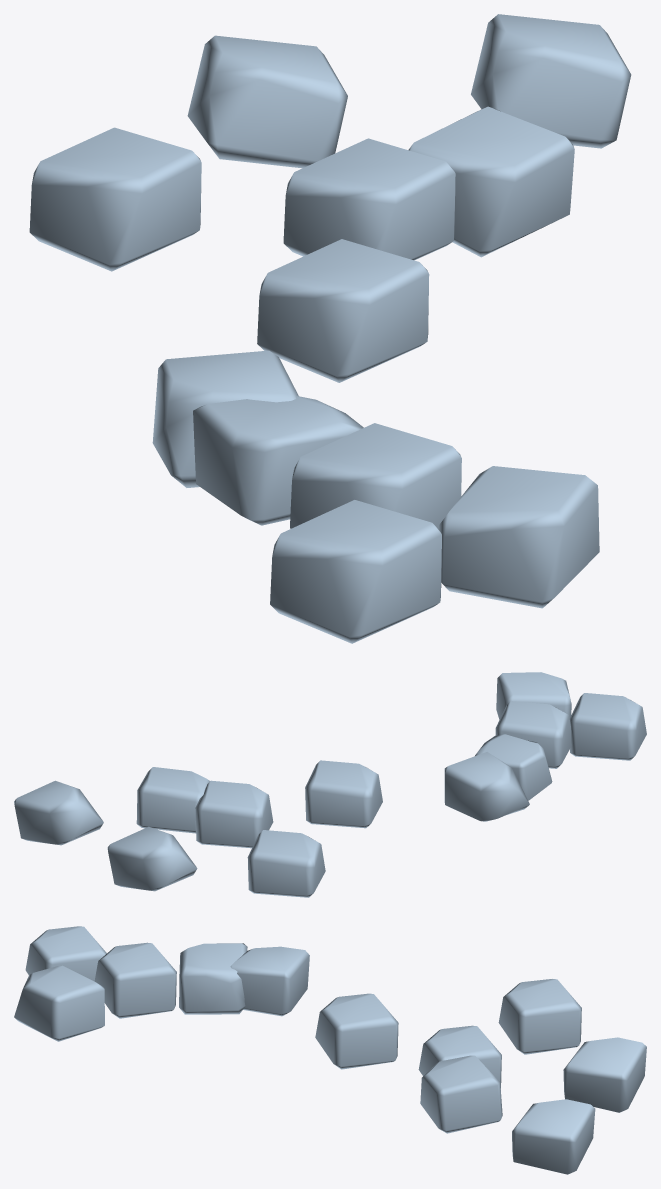
Rendered from Pavement_07A_Lod0.fbx.
3 renders of one model, top to bottom at view 1: azimuth 30°, elevation 25°; view 2: azimuth 150°, elevation 25°; view 3: azimuth 270°, elevation 25°, orthographic. The views are drawn at different scales.
Visible parts, largest first — view 1: Pavement_07A_Lod0; view 2: Pavement_07A_Lod0; view 3: Pavement_07A_Lod0.
Boxes of the visible parts, left/top/right/bottom form: Pavement_07A_Lod0: left=29, top=14, right=631, bottom=643; Pavement_07A_Lod0: left=14, top=672, right=646, bottom=897; Pavement_07A_Lod0: left=14, top=926, right=646, bottom=1174.
Size of the model in its own units: 261 by 34.17 by 337.
